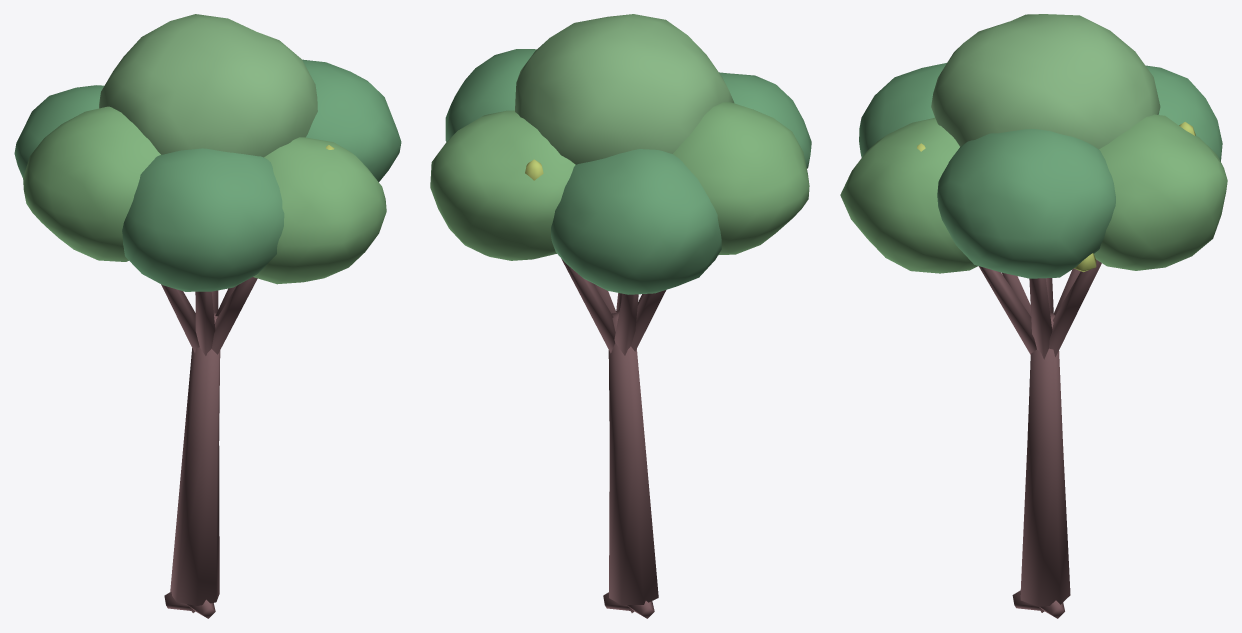
Rendered from pear_tree.glb.
3 views of the same model, side by side, from view 1: azimuth 30°, elevation 25°; view 2: azimuth 150°, elevation 25°; view 3: azimuth 270°, elevation 25° (orthographic). The views are drawn at different scales.
Visible parts, largest first — view 1: pear_tree; view 2: pear_tree; view 3: pear_tree.
Part boxes in pixels (box(x1,y1,x2,y2)): pear_tree: box(14, 14, 401, 618); pear_tree: box(430, 14, 811, 618); pear_tree: box(840, 14, 1227, 618).
Size of what is drawn, in the model's own units: 4.4 by 7 by 4.15.
